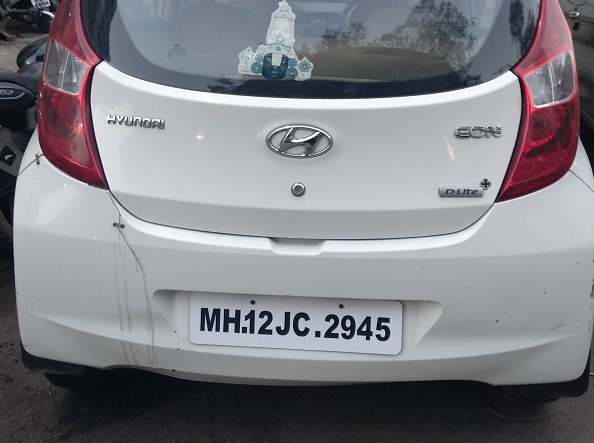licenseplate: (189, 290, 407, 357)
